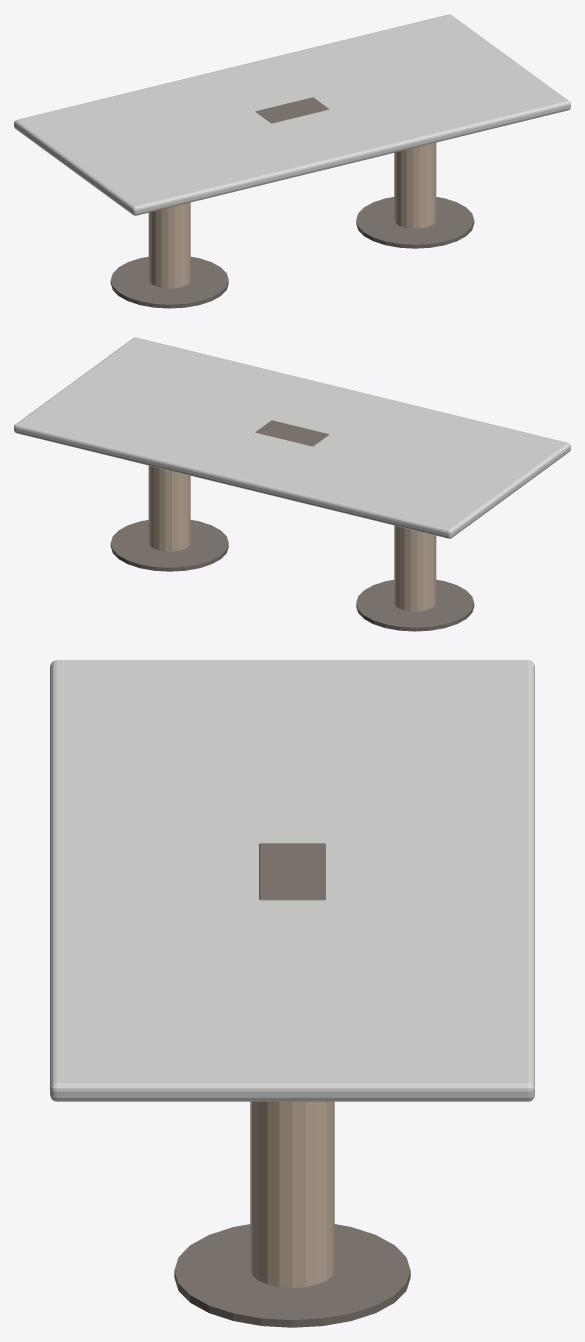
The model's file is meeting_rooms___private_spaces_catalog_76.glb.
3 views of the same model, one above another, from view 1: azimuth 30°, elevation 25°; view 2: azimuth 150°, elevation 25°; view 3: azimuth 270°, elevation 25° (orthographic). The views are drawn at different scales.
Parts seen in each view (by area): view 1: Cube; view 2: Cube; view 3: Cube.
Part boxes in pixels (x1,y1,x2,y2): Cube: (14, 14, 570, 308); Cube: (14, 337, 570, 631); Cube: (50, 660, 534, 1327).
Bounding box in the file's own units: 2.4 × 0.751 × 1.15.
